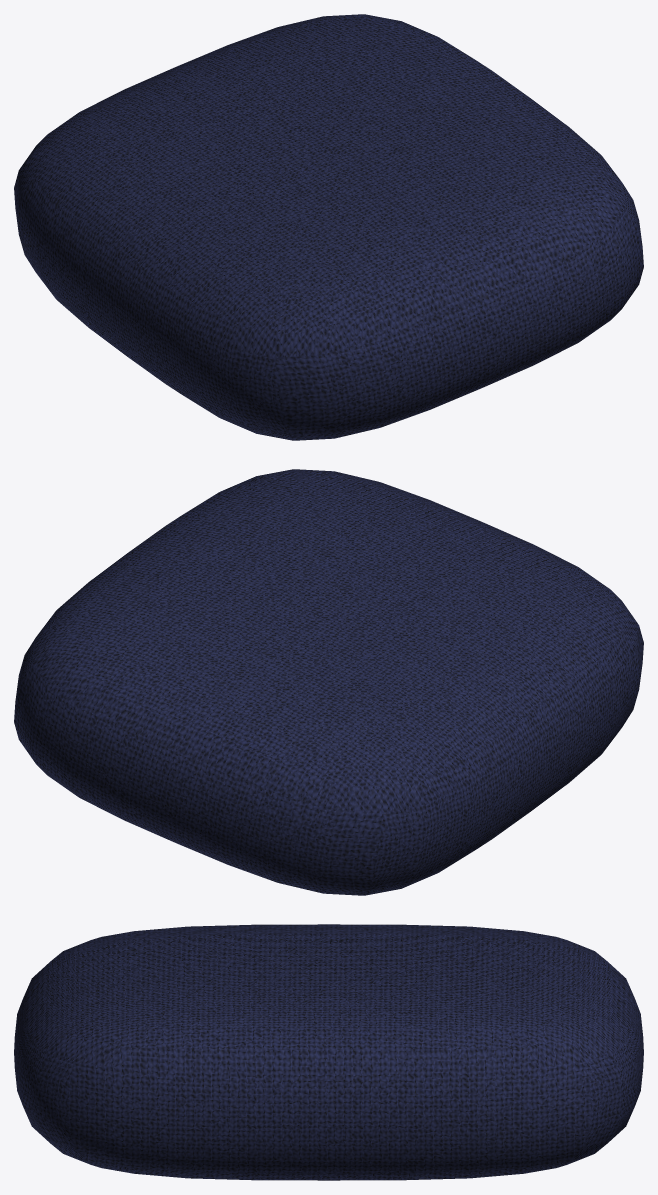
Rendered from PillowR.glb.
3 renders of one model, top to bottom at view 1: azimuth 30°, elevation 25°; view 2: azimuth 150°, elevation 25°; view 3: azimuth 270°, elevation 25°, orthographic.
Parts seen in each view (by area): view 1: Pillow R; view 2: Pillow R; view 3: Pillow R.
Boxes of the visible parts, bbox=[...] form: Pillow R: bbox=[14, 14, 643, 440]; Pillow R: bbox=[14, 469, 643, 895]; Pillow R: bbox=[14, 924, 643, 1180].
Bounding box in the file's own units: 2.12 × 0.9709 × 2.67.
Materials: 1 (1 with a texture image).
